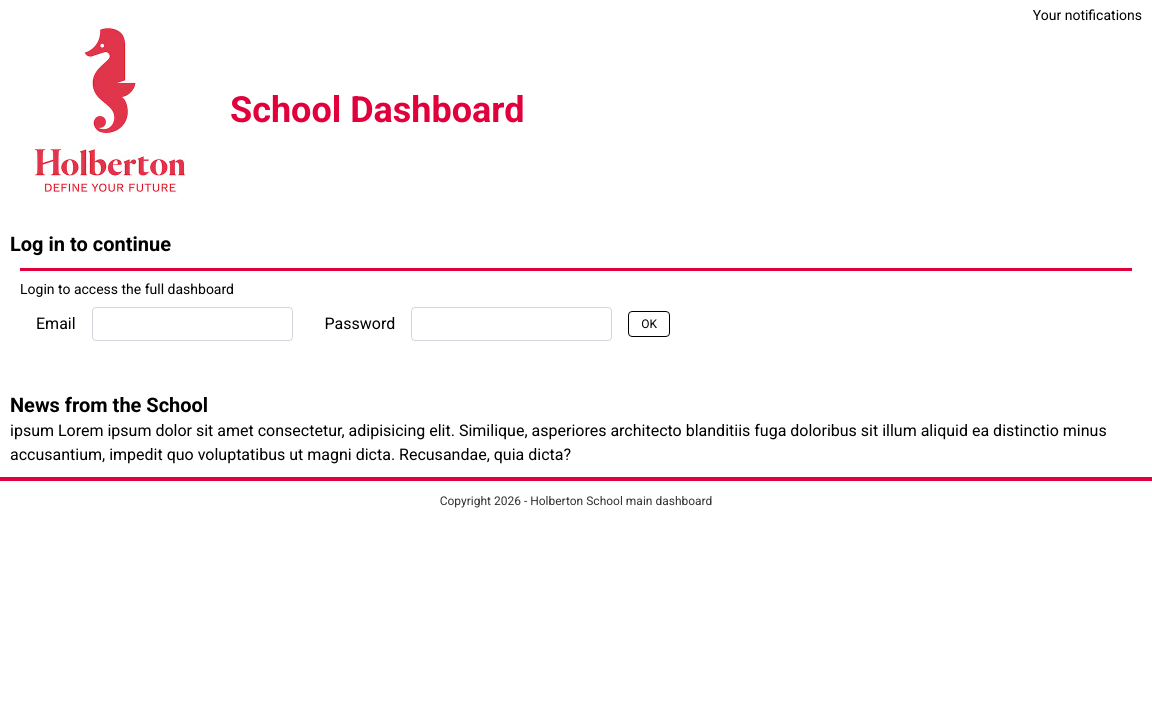
Test: App (Task 4) - notifications state › clicking a notification removes it from the list and logs the expected string
This screenshot has width=1152, height=720.
Click the text "Your notifications" at (1087, 15), box [1033,5,1142,25]
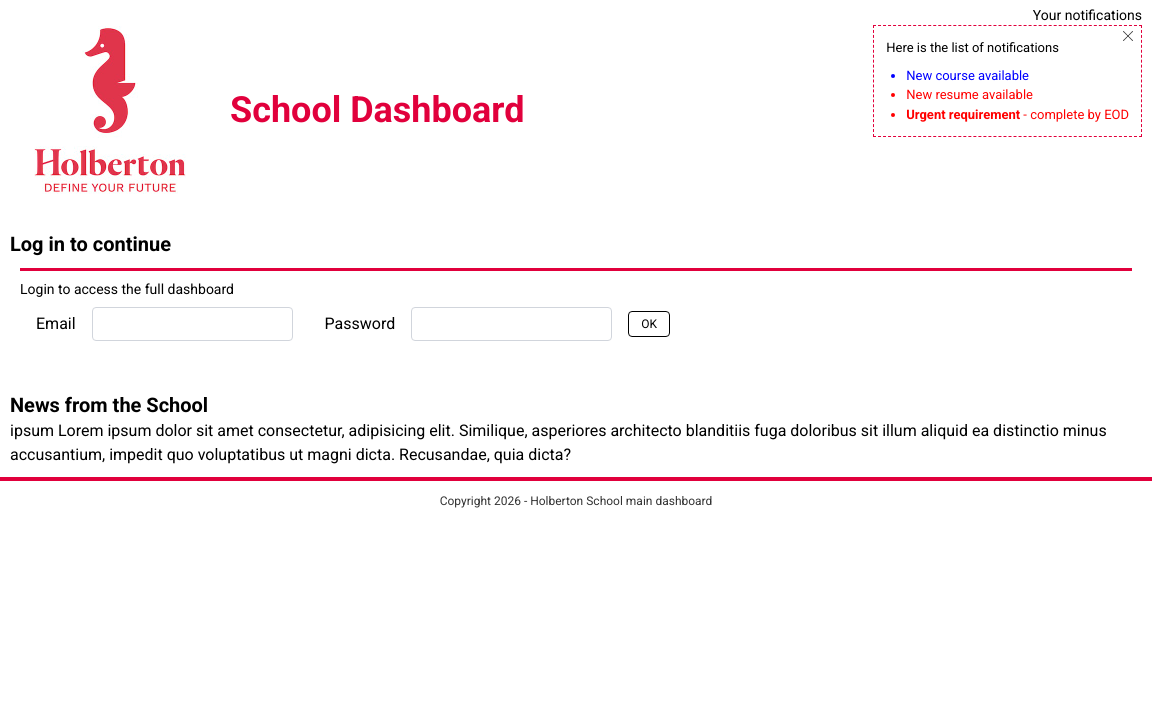
Click the list item "New resume available" at (970, 94), box [906,87,1033,102]
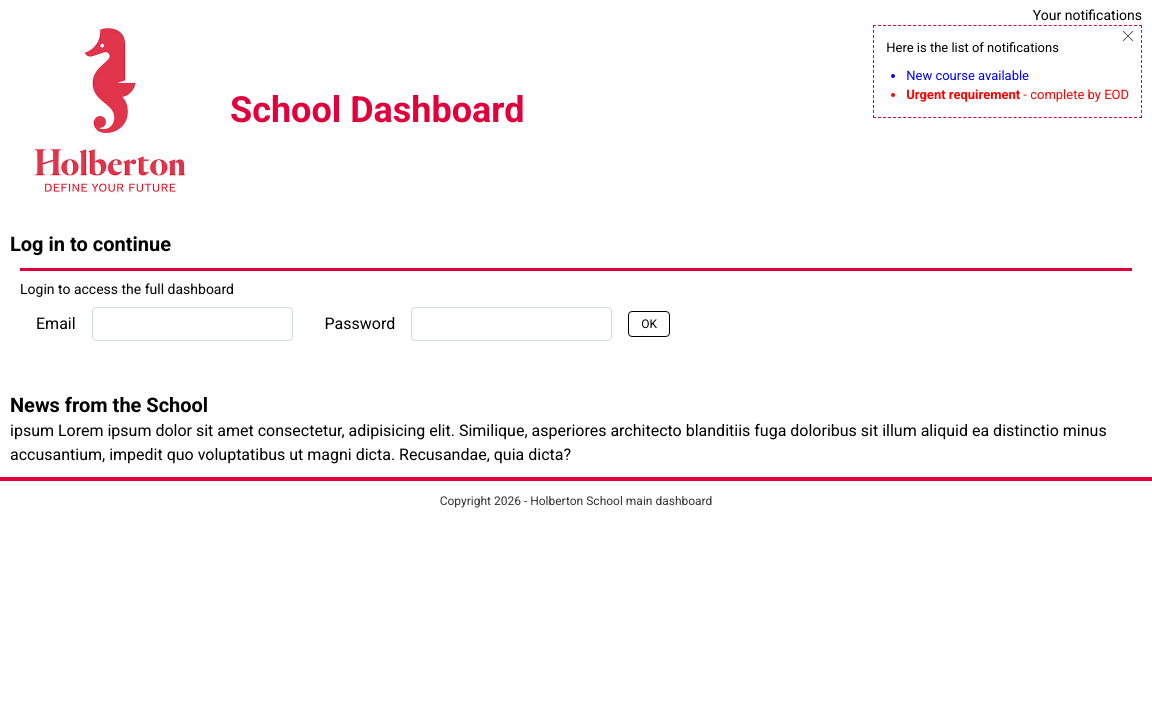
Check: the list item "New resume available" is gone
